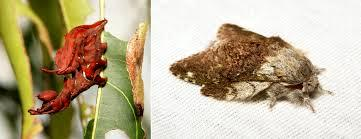Caterpillar: (29, 18, 109, 116)
